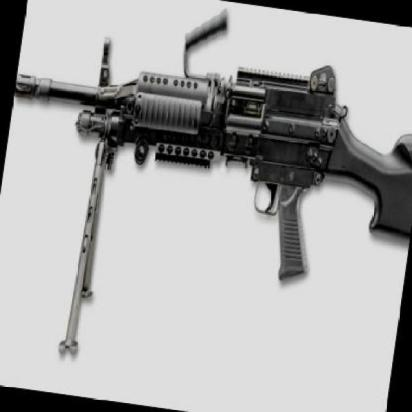Gun: (0, 0, 412, 306)
